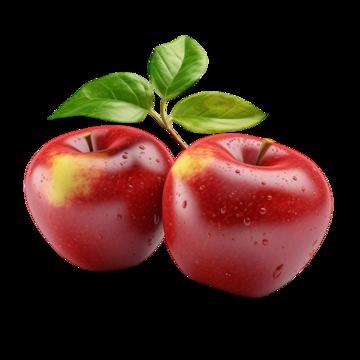apples: (160, 114, 324, 297), (21, 106, 173, 302)
